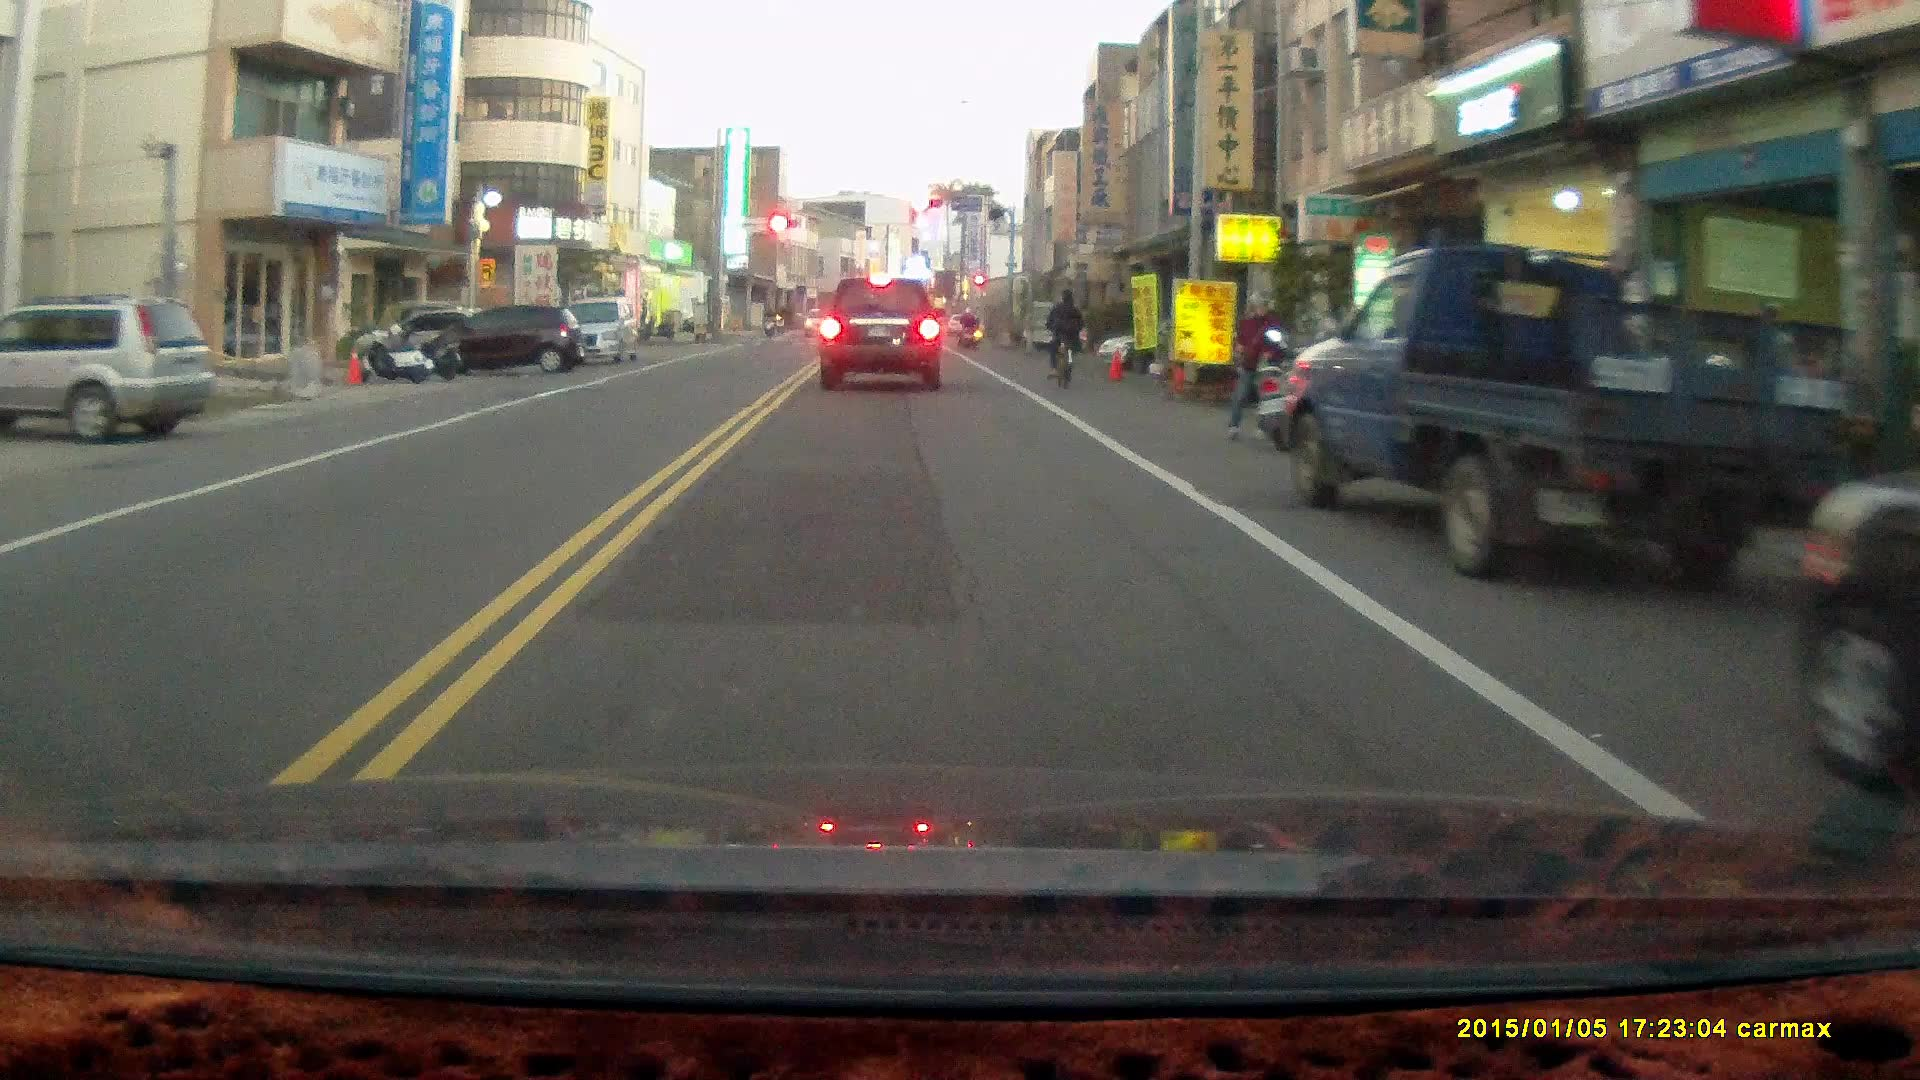pedestrian: (1224, 289, 1277, 444)
rider: (1044, 284, 1083, 390)
vehicle: (1265, 235, 1845, 583), (1, 297, 214, 442), (817, 270, 946, 395), (433, 301, 587, 374), (532, 294, 646, 366)
